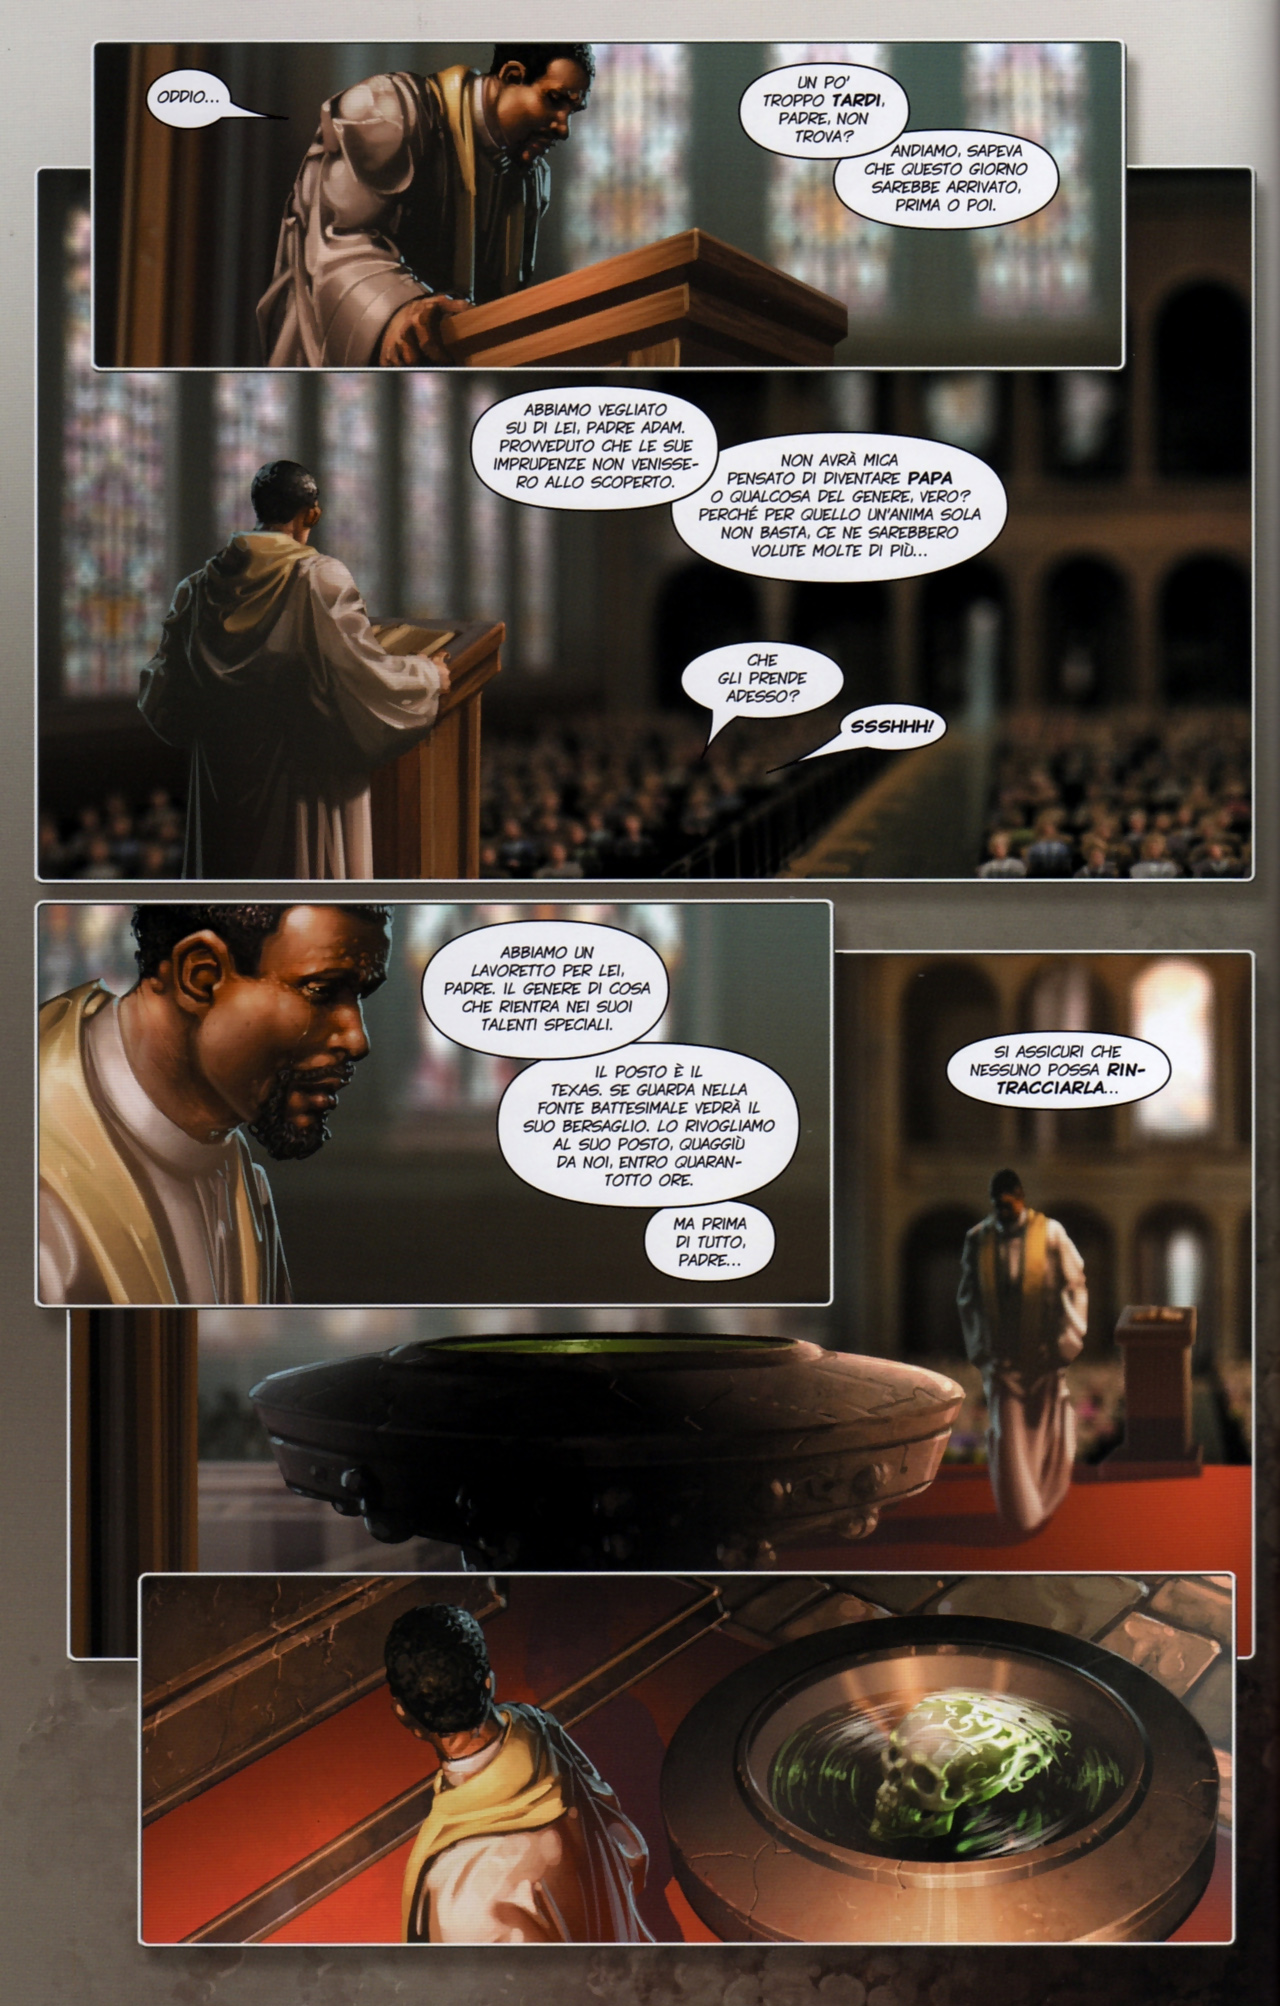Baloon: (685, 428, 1005, 591), (502, 1041, 807, 1211), (420, 923, 666, 1063), (470, 390, 723, 510), (835, 129, 1059, 224), (938, 1035, 1181, 1117), (674, 640, 847, 741), (731, 60, 911, 156), (796, 699, 957, 772), (641, 1202, 778, 1287), (143, 72, 262, 129)
Vignetta: (35, 167, 1260, 882), (66, 950, 1257, 1657), (135, 1572, 1238, 1945), (97, 38, 1123, 371), (35, 902, 832, 1312)
